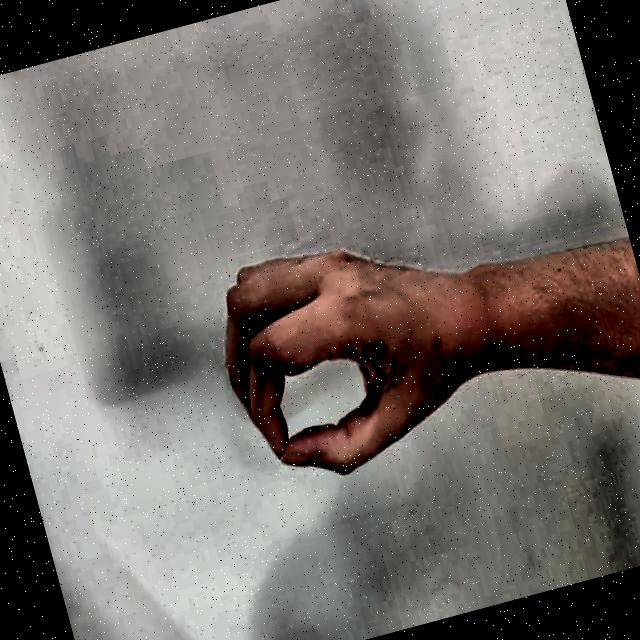O: (173, 176, 516, 520)
